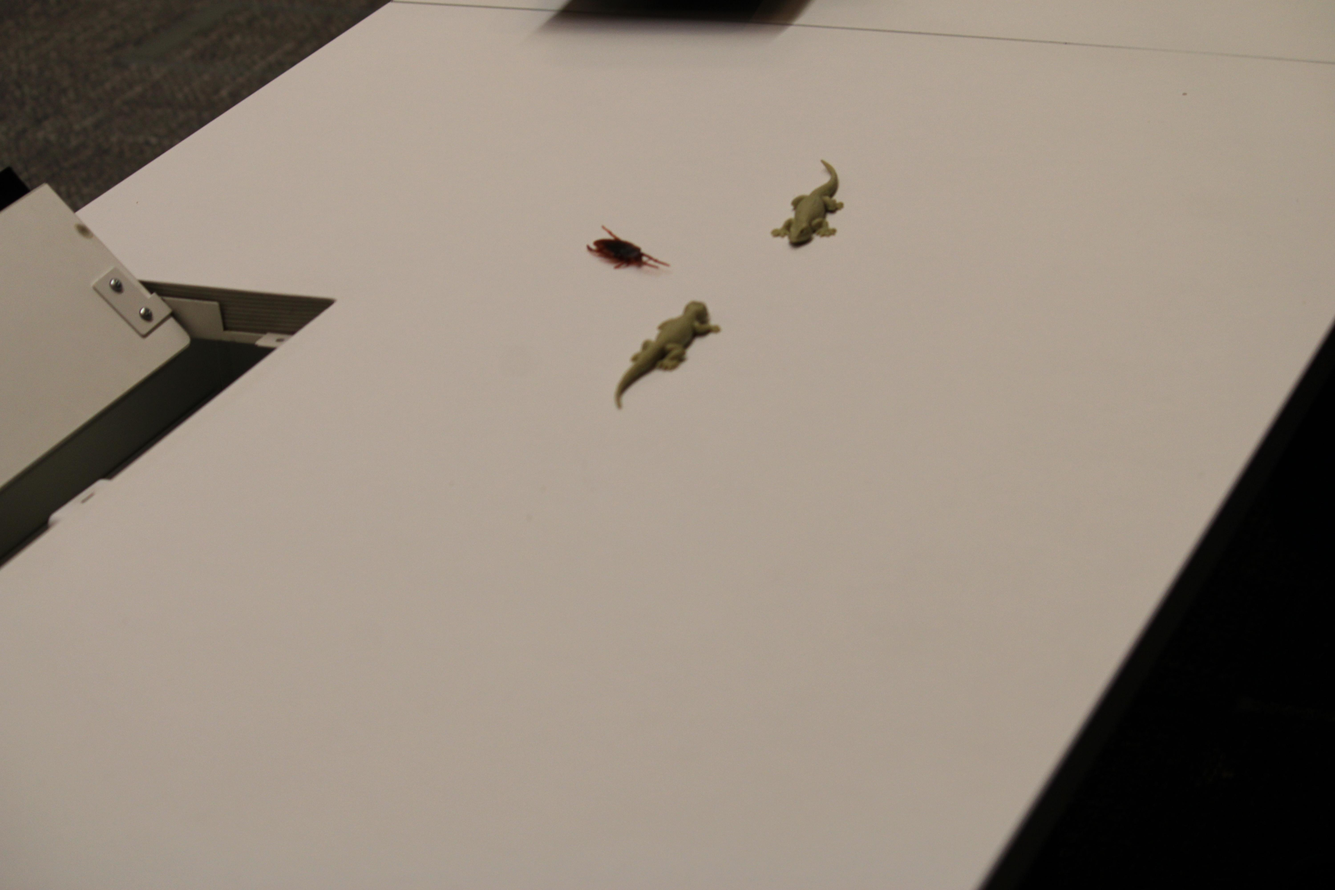cockroach: (583, 223, 658, 273)
lizard: (610, 296, 722, 411), (768, 154, 848, 258)
